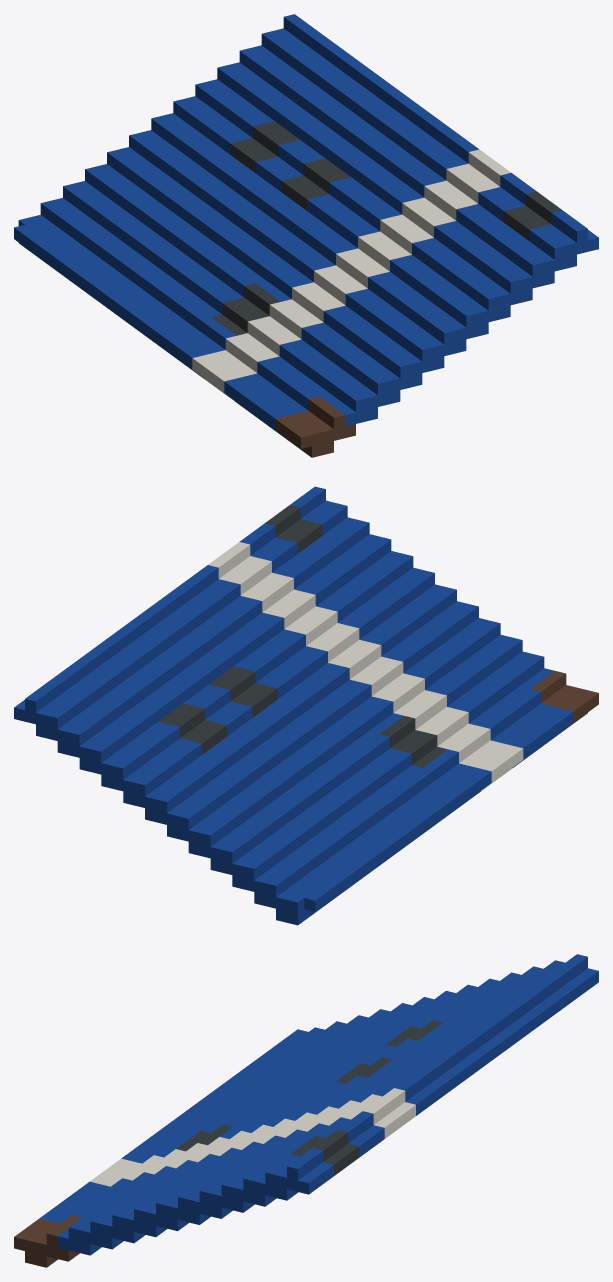
Rendered from overturned_delivery_van_rear_door_upper.glb.
3 views of the same model, one above another, from view 1: azimuth 30°, elevation 25°; view 2: azimuth 150°, elevation 25°; view 3: azimuth 330°, elevation 25° (orthographic).
Visible parts, largest first — view 1: body:compound; view 2: body:compound; view 3: body:compound.
Part boxes in pixels (box(x1,y1,x2,y2)): body:compound: box(14, 14, 598, 457); body:compound: box(14, 486, 598, 925); body:compound: box(14, 954, 598, 1267).
Bounding box in the file's own units: 0.8438 × 0.4375 × 1.44.
